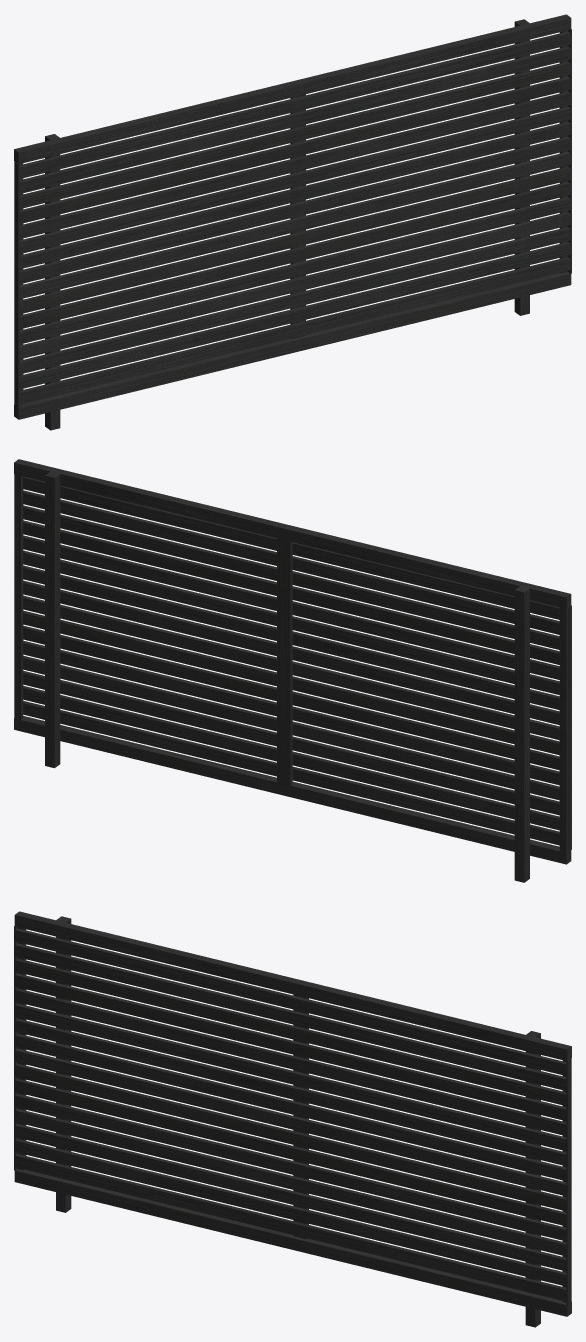
Rendered from dsf_yoko40_h1000_charcoalgray.fbx.
3 renders of one model, top to bottom at view 1: azimuth 30°, elevation 25°; view 2: azimuth 150°, elevation 25°; view 3: azimuth 330°, elevation 25°, orthographic.
Parts seen in each view (by area): view 1: dsf_yoko40_h1000_charcoalgray; view 2: dsf_yoko40_h1000_charcoalgray; view 3: dsf_yoko40_h1000_charcoalgray.
Boxes of the visible parts, <box> form: dsf_yoko40_h1000_charcoalgray: <box>14,14,571,430</box>; dsf_yoko40_h1000_charcoalgray: <box>14,459,571,882</box>; dsf_yoko40_h1000_charcoalgray: <box>14,911,571,1327</box>.
Bounding box in the file's own units: 200 × 100 × 6.55.
Materials: 1 (1 with a texture image).
